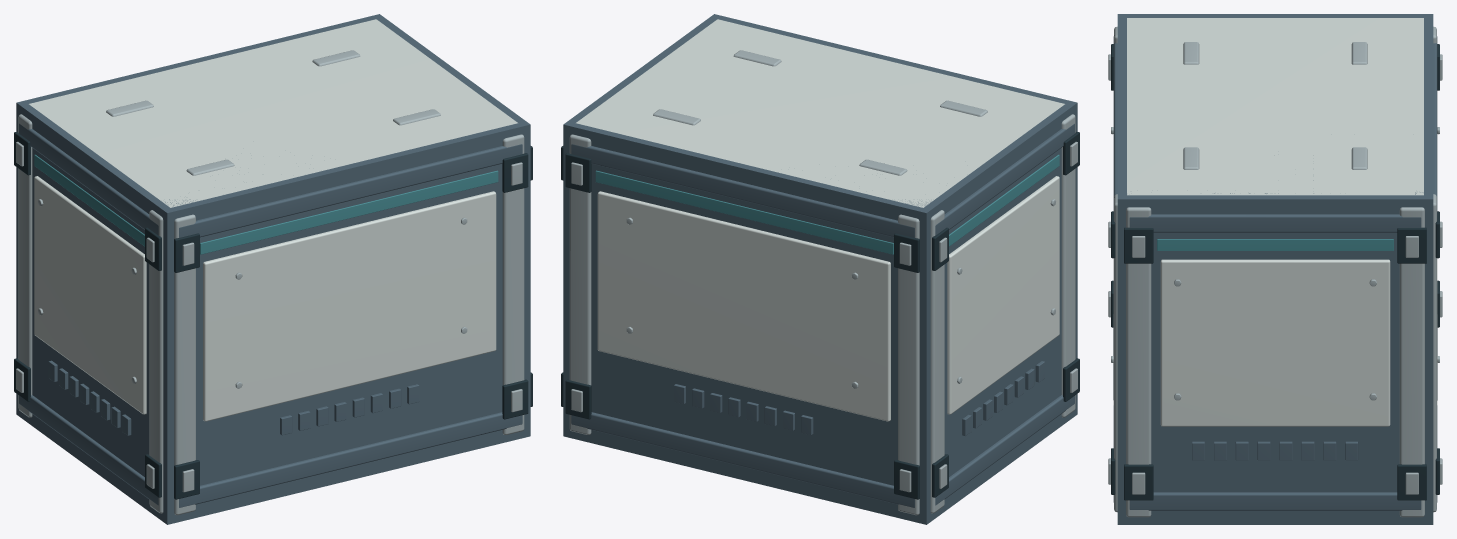
File: nexus-cargo.glb
3 renders of one model, left to right at view 1: azimuth 30°, elevation 25°; view 2: azimuth 150°, elevation 25°; view 3: azimuth 270°, elevation 25°, orthographic. The views are drawn at different scales.
Parts seen in each view (by area): view 1: OB17 / nexus-cargo; view 2: OB17 / nexus-cargo; view 3: OB17 / nexus-cargo.
Boxes of the visible parts, x1,y1,x2,y2 form: OB17 / nexus-cargo: (14, 14, 532, 524); OB17 / nexus-cargo: (561, 14, 1079, 524); OB17 / nexus-cargo: (1108, 14, 1442, 524).
Size of the model in its own units: 2.61 by 2.06 by 1.91.
